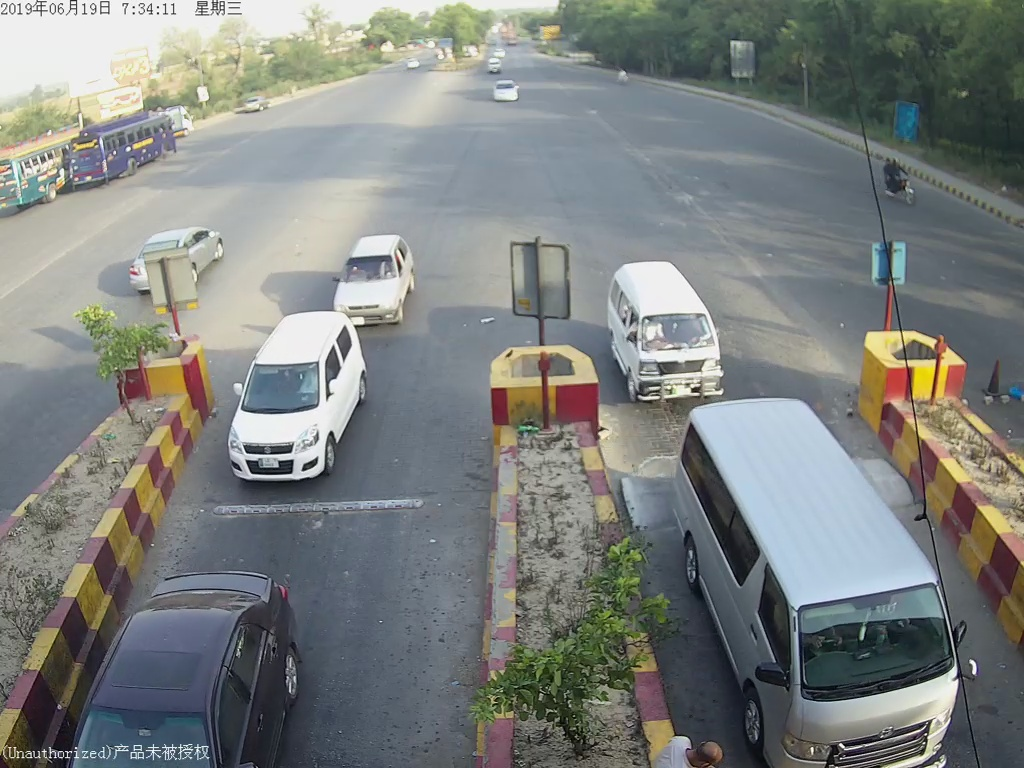Cat-1: (219, 307, 371, 473), (605, 264, 724, 388), (331, 230, 429, 308)
Cat-2: (678, 395, 980, 737)
